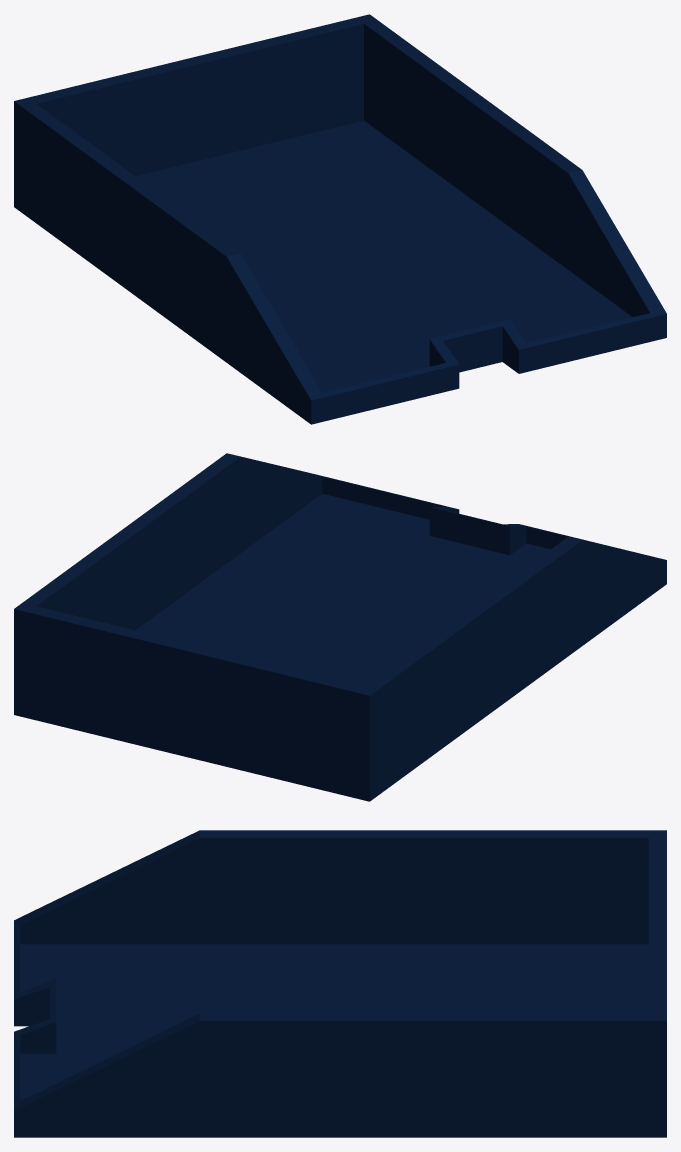
File: ConatinerV2.fbx
3 views of the same model, one above another, from view 1: azimuth 30°, elevation 25°; view 2: azimuth 150°, elevation 25°; view 3: azimuth 270°, elevation 25° (orthographic). The views are drawn at different scales.
Parts seen in each view (by area): view 1: ConatinerV2; view 2: ConatinerV2; view 3: ConatinerV2.
Part boxes in pixels (left/top/right/bottom): ConatinerV2: left=14, top=14, right=666, bottom=424; ConatinerV2: left=14, top=453, right=666, bottom=801; ConatinerV2: left=14, top=830, right=666, bottom=1137.
Bounding box in the file's own units: 17.55 × 5 × 25.4.
